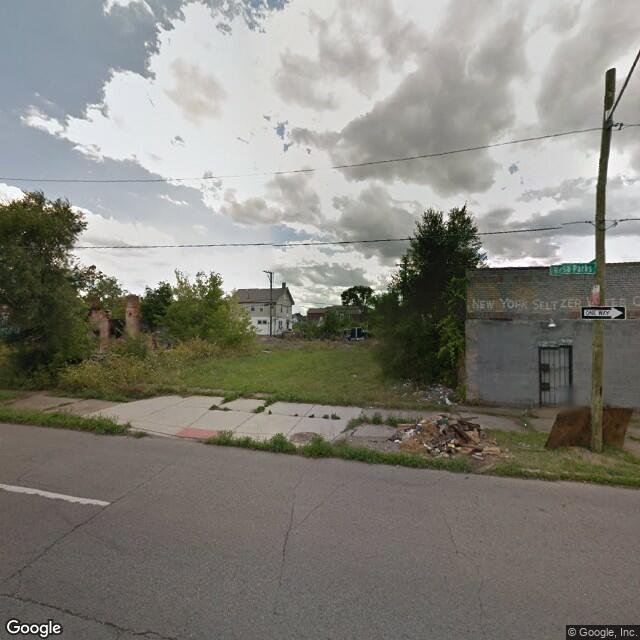litter: (394, 416, 479, 451), (422, 378, 454, 401), (520, 422, 528, 428)
